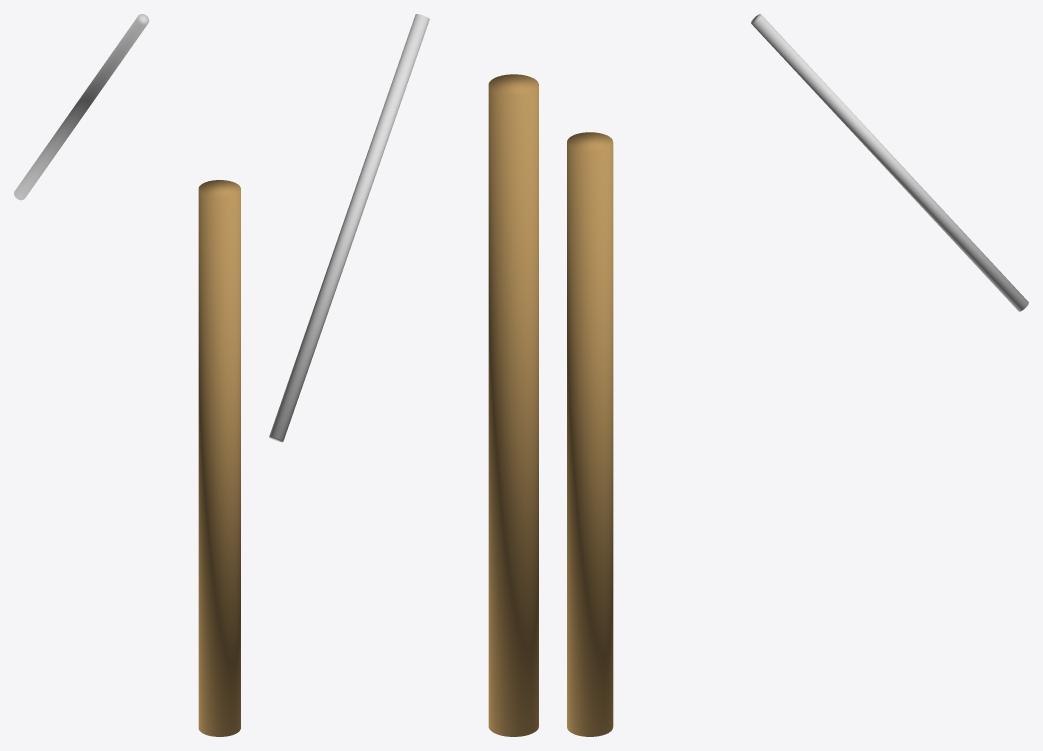
Rendered from fishingrod.glb.
3 views of the same model, side by side, from view 1: azimuth 30°, elevation 25°; view 2: azimuth 150°, elevation 25°; view 3: azimuth 270°, elevation 25° (orthographic). The views are drawn at different scales.
Parts seen in each view (by area): view 1: Cylinder; view 2: Cylinder; view 3: Cylinder.
Boxes of the visible parts, left/top/right/bottom form: Cylinder: left=14, top=14, right=240, bottom=736; Cylinder: left=269, top=14, right=538, bottom=736; Cylinder: left=567, top=14, right=1028, bottom=736.
Bounding box in the file's own units: 0.02 × 0.3408 × 0.2003.
